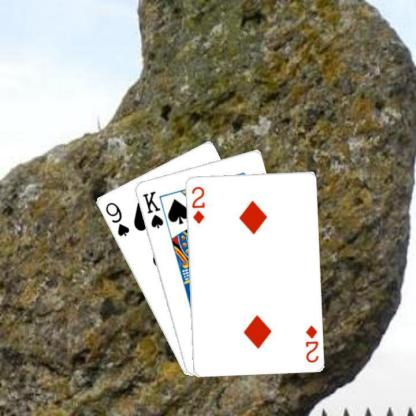2D: (302, 322, 320, 364), (188, 184, 206, 224)
9S: (102, 199, 131, 237)
KS: (139, 188, 165, 230)
